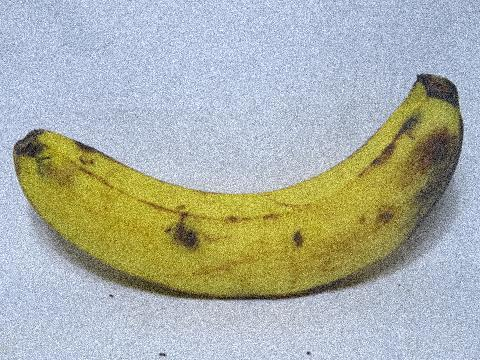ripe: (11, 73, 479, 305)
